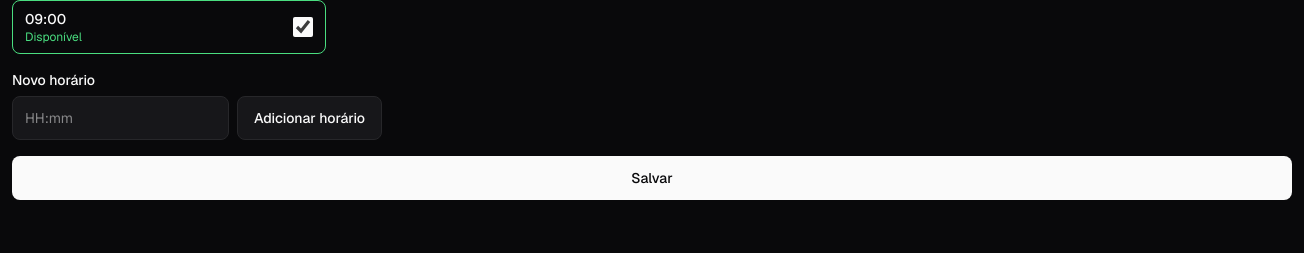
Test: ScheduleSlotGrid › -> (negative companion) rejeita horário repetido sem duplicar a linha
This screenshot has width=1304, height=253.
In the field labelled "Novo horário": point(120, 118) [12,96,229,140], type "09:00"
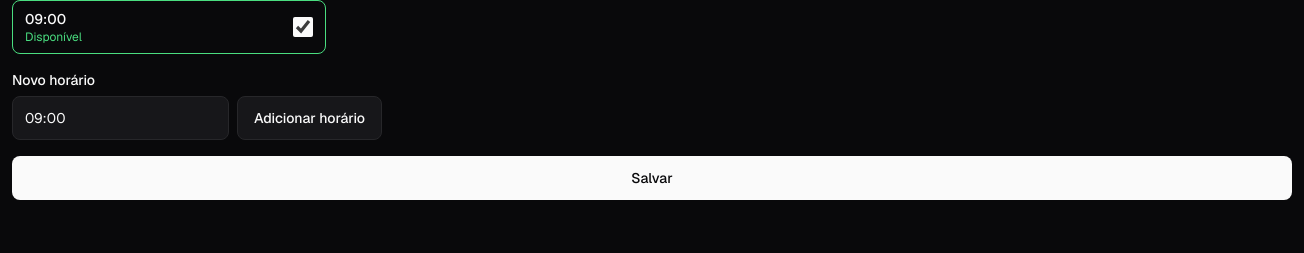
Click the button "Adicionar horário": point(310, 118) [237,96,382,140]
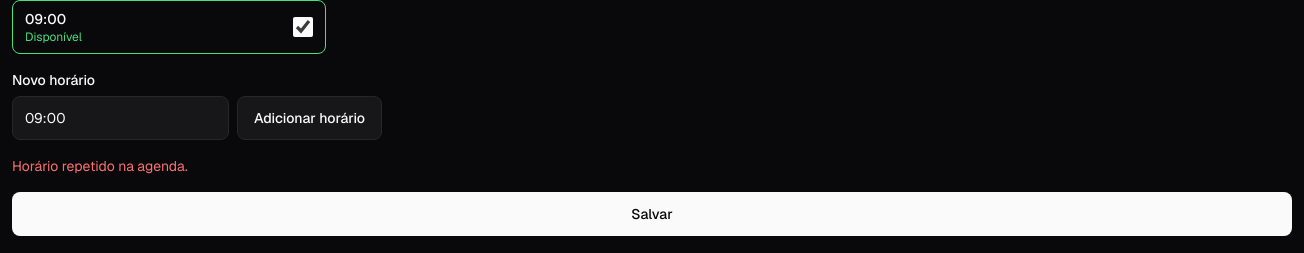
expect the number of checkboxes is 1: met, box [293,17,313,37]
expect the text "Horário repetido na agenda." is shown: met, box [12,157,188,175]
